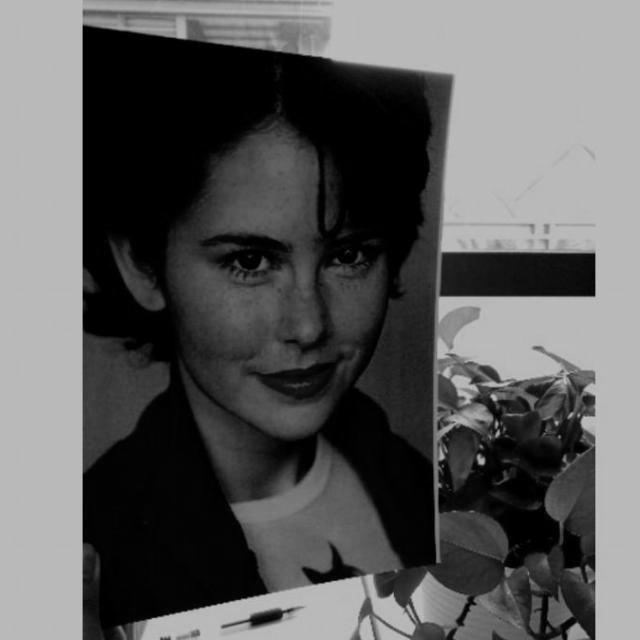fake: (82, 4, 444, 630)
